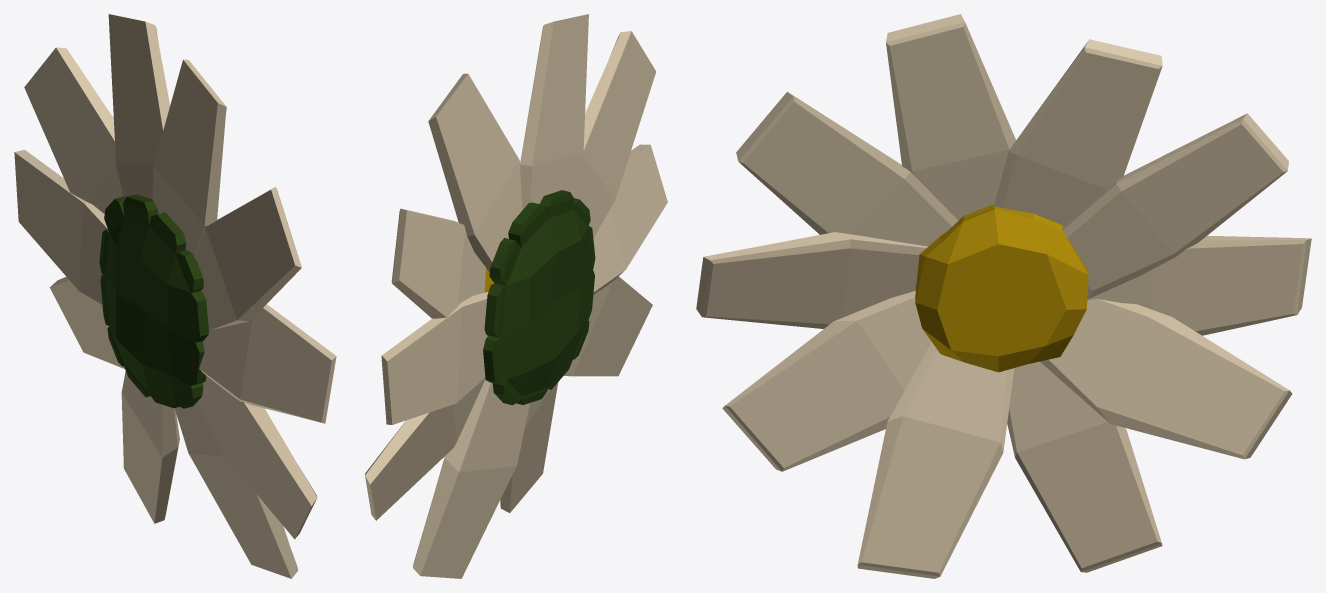
The model's file is Daisy_Crown.fbx.
3 views of the same model, side by side, from view 1: azimuth 30°, elevation 25°; view 2: azimuth 150°, elevation 25°; view 3: azimuth 270°, elevation 25° (orthographic). The views are drawn at different scales.
Parts seen in each view (by area): view 1: Back, Pedals.002, Pedals.001, Pedals, Pedals.006, Pedals.009, Pedals.003, Pedals.007, Pedals.004, Pedals.008, Pedals.005; view 2: Back, Pedals.008, Pedals.009, Pedals, Pedals.007, Pedals.001, Pedals.006, Pedals.005, Pedals.002, Pedals.003, Pedals.004; view 3: Pedals.004, Pedals.005, Front, Pedals.003, Pedals.006, Pedals.008, Pedals.009, Pedals, Pedals.001, Pedals.002, Pedals.007.
Boxes of the visible parts, left/top/right/bottom form: Back: left=99, top=194, right=208, bottom=408; Pedals.002: left=199, top=304, right=336, bottom=423; Pedals.001: left=196, top=187, right=301, bottom=330; Pedals: left=152, top=59, right=226, bottom=258; Pedals.006: left=24, top=47, right=123, bottom=213; Pedals.009: left=108, top=14, right=169, bottom=199; Pedals.003: left=197, top=376, right=317, bottom=539; Pedals.007: left=14, top=149, right=107, bottom=304; Pedals.004: left=174, top=402, right=298, bottom=578; Pedals.008: left=121, top=371, right=179, bottom=523; Pedals.005: left=50, top=276, right=124, bottom=368; Back: left=483, top=190, right=595, bottom=405; Pedals.008: left=412, top=379, right=529, bottom=578; Pedals.009: left=428, top=73, right=522, bottom=272; Pedals: left=520, top=14, right=588, bottom=209; Pedals.007: left=381, top=291, right=488, bottom=424; Pedals.001: left=573, top=31, right=656, bottom=238; Pedals.006: left=391, top=208, right=485, bottom=318; Pedals.005: left=365, top=378, right=485, bottom=520; Pedals.002: left=593, top=144, right=667, bottom=294; Pedals.003: left=564, top=276, right=652, bottom=376; Pedals.004: left=500, top=382, right=558, bottom=512; Pedals.004: left=857, top=342, right=1014, bottom=578; Pedals.005: left=1040, top=299, right=1292, bottom=459; Front: left=915, top=204, right=1088, bottom=372; Pedals.003: left=722, top=290, right=931, bottom=471; Pedals.006: left=1062, top=113, right=1288, bottom=299; Pedals.008: left=1007, top=361, right=1162, bottom=572; Pedals.009: left=994, top=39, right=1162, bottom=226; Pedals: left=886, top=14, right=1015, bottom=220; Pedals.001: left=736, top=91, right=958, bottom=289; Pedals.002: left=696, top=232, right=927, bottom=328; Pedals.007: left=1087, top=235, right=1311, bottom=335.
Bounding box in the file's own units: 129 × 702 × 722.
